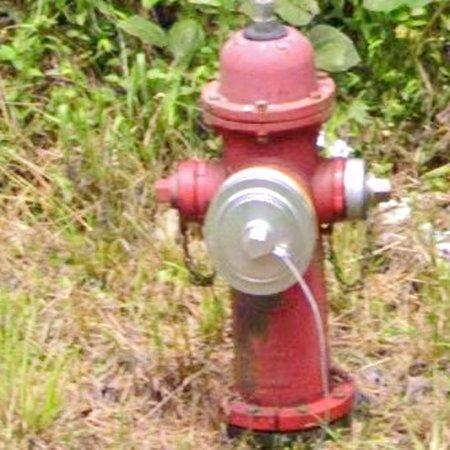a fire hydrant: (156, 0, 391, 432)
